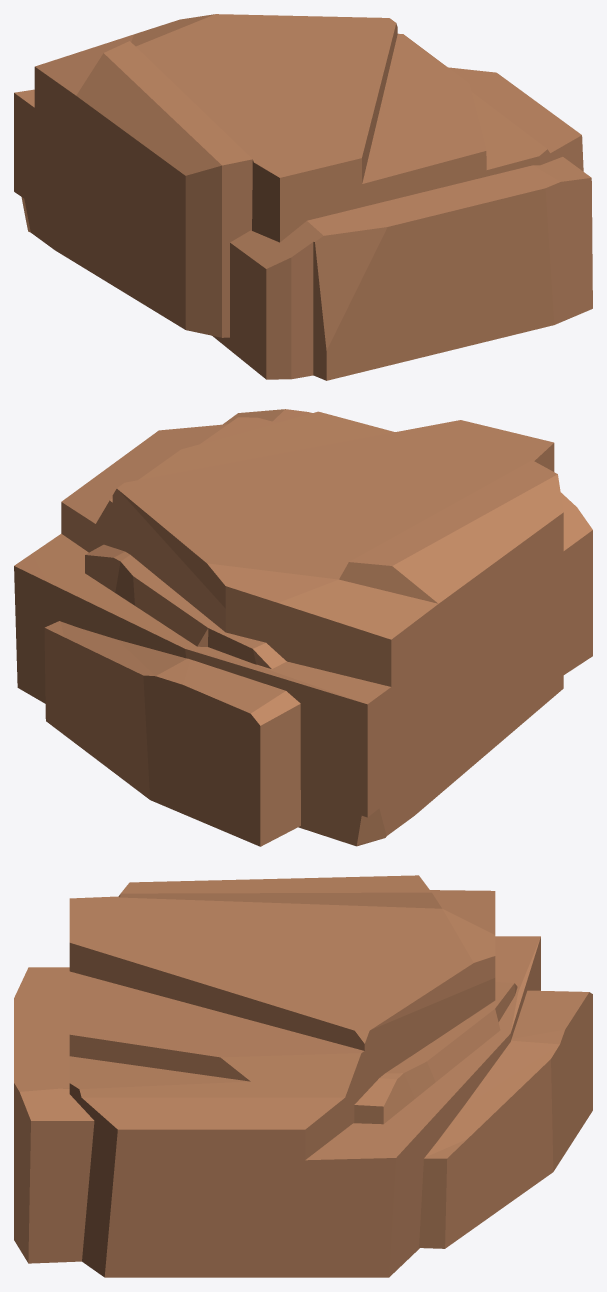
The model's file is DesertRockBig_01.fbx.
3 renders of one model, top to bottom at view 1: azimuth 30°, elevation 25°; view 2: azimuth 150°, elevation 25°; view 3: azimuth 270°, elevation 25°, orthographic. The views are drawn at different scales.
Visible parts, largest first — view 1: BigRock; view 2: BigRock; view 3: BigRock.
Boxes of the visible parts, x1=… form: BigRock: x1=14, y1=14, x2=592, y2=380; BigRock: x1=14, y1=409, x2=592, y2=846; BigRock: x1=14, y1=875, x2=592, y2=1277.
Size of the model in its own units: 909 by 467 by 1103.
